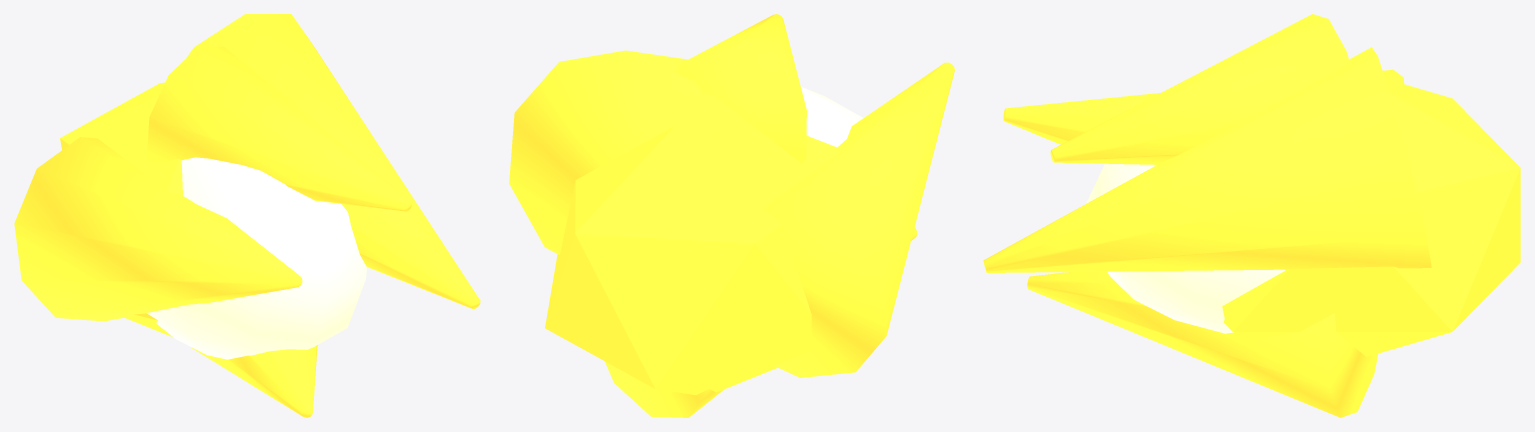
The model's file is Flame.fbx.
3 views of the same model, side by side, from view 1: azimuth 30°, elevation 25°; view 2: azimuth 150°, elevation 25°; view 3: azimuth 270°, elevation 25° (orthographic). The views are drawn at different scales.
Parts seen in each view (by area): view 1: Fire_Tongue1, Flame_Core0, Fire_Tongue3, Fire_Tongue0, Fire_Lick0, Fire_Tongue2; view 2: Fire_Lick0, Fire_Tongue1, Fire_Tongue0, Fire_Tongue3, Fire_Tongue2, Flame_Core0; view 3: Fire_Tongue0, Fire_Lick0, Fire_Tongue3, Fire_Tongue2, Flame_Core0, Fire_Tongue1.
Boxes of the visible parts, x1,y1,x2,y2 form: Fire_Tongue1: [14, 137, 302, 321]; Flame_Core0: [147, 157, 366, 359]; Fire_Tongue3: [147, 46, 412, 211]; Fire_Tongue0: [187, 14, 480, 308]; Fire_Lick0: [60, 82, 182, 337]; Fire_Tongue2: [191, 345, 317, 417]; Fire_Lick0: [545, 93, 841, 395]; Fire_Tongue1: [762, 62, 954, 377]; Fire_Tongue0: [509, 50, 720, 254]; Fire_Tongue3: [674, 14, 806, 163]; Fire_Tongue2: [605, 227, 917, 417]; Flame_Core0: [801, 87, 863, 147]; Fire_Tongue0: [983, 47, 1431, 272]; Fire_Lick0: [1222, 79, 1520, 356]; Fire_Tongue3: [1050, 14, 1349, 164]; Fire_Tongue2: [1027, 271, 1377, 417]; Flame_Core0: [1086, 163, 1285, 333]; Fire_Tongue1: [1003, 69, 1404, 144].
Size of the model in its own units: 0.2385 by 0.3238 by 0.2415.
